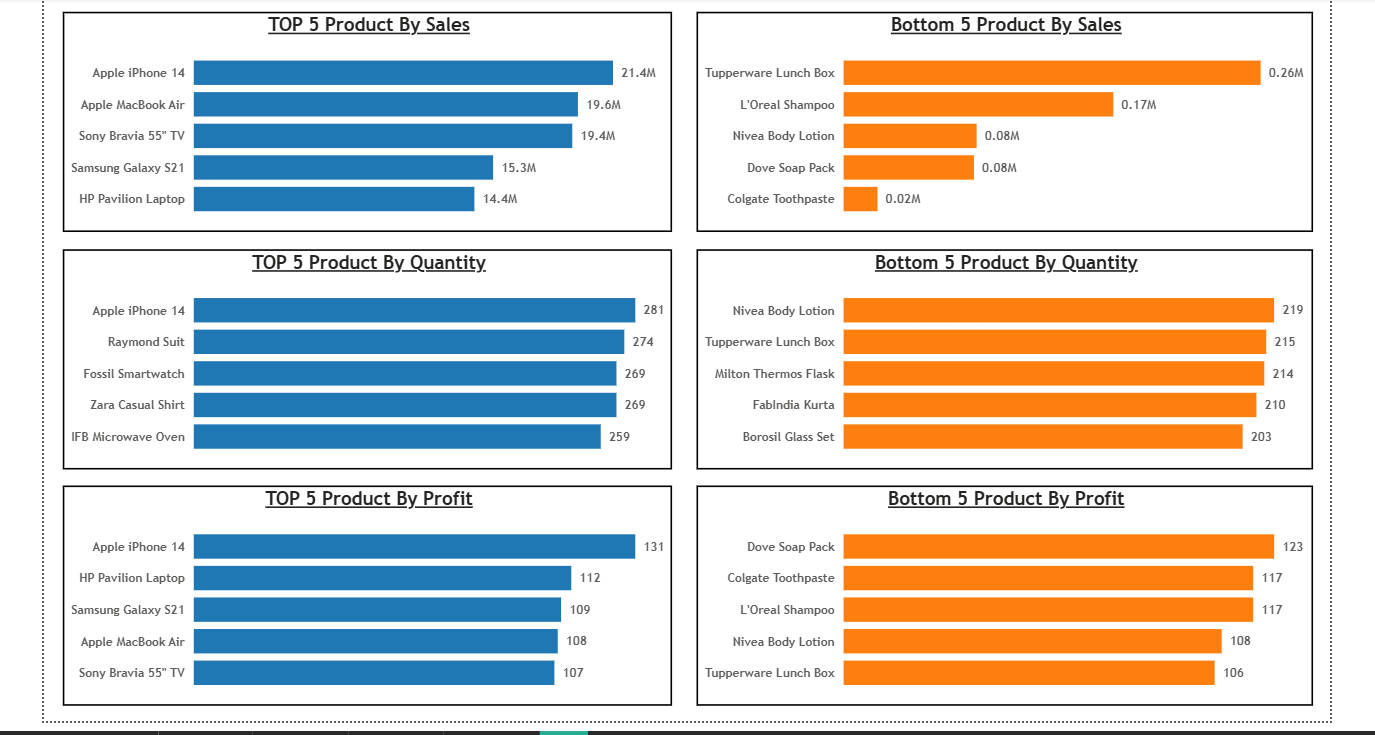

This screenshot's page, from the dashboard's own definition file:
{"tool":"powerbi","page":{"name":"Page 1","canvas":[1280,720],"ordinal":0},"visuals":[{"type":"barChart","title":"TOP 5 Product By Sales ","fields":{"Y":["Sum(Fact Table.Net_Sales)"],"Category":["Dim Product.Product Name"]},"box":[19.2,13.7,606.5,219.6],"z":0},{"type":"barChart","title":"Bottom 5 Product By Sales ","fields":{"Y":["Sum(Fact Table.Net_Sales)"],"Category":["Dim Product.Product Name"]},"box":[649.1,13.7,613.4,219.6],"z":1000},{"type":"barChart","title":"TOP 5 Product By Quantity","fields":{"Y":["Sum(Fact Table.Units Sold)"],"Category":["Dim Product.Product Name"]},"box":[19.2,249.7,606.5,219.6],"z":2000},{"type":"barChart","title":"TOP 5 Product By Profit ","fields":{"Category":["Dim Product.Product Name"],"Y":["CountNonNull(Fact Table.Profit)"]},"box":[19.2,485.8,606.5,219.6],"z":3000},{"type":"barChart","title":"Bottom 5 Product By Quantity","fields":{"Category":["Dim Product.Product Name"],"Y":["Sum(Fact Table.Units Sold)"]},"box":[649.1,249.7,613.4,219.6],"z":4000},{"type":"barChart","title":"Bottom 5 Product By Profit","fields":{"Category":["Dim Product.Product Name"],"Y":["CountNonNull(Fact Table.Profit)"]},"box":[649.1,485.8,613.4,219.6],"z":5000}]}

Visuals, with their boxes in screenshot pixels (x1, y1, x2, y2):
"TOP 5 Product By Sales " barChart: crop(59, 7, 668, 227)
"Bottom 5 Product By Sales " barChart: crop(692, 7, 1309, 227)
"TOP 5 Product By Quantity" barChart: crop(59, 244, 668, 465)
"TOP 5 Product By Profit " barChart: crop(59, 481, 668, 702)
"Bottom 5 Product By Quantity" barChart: crop(692, 244, 1309, 465)
"Bottom 5 Product By Profit" barChart: crop(692, 481, 1309, 702)
